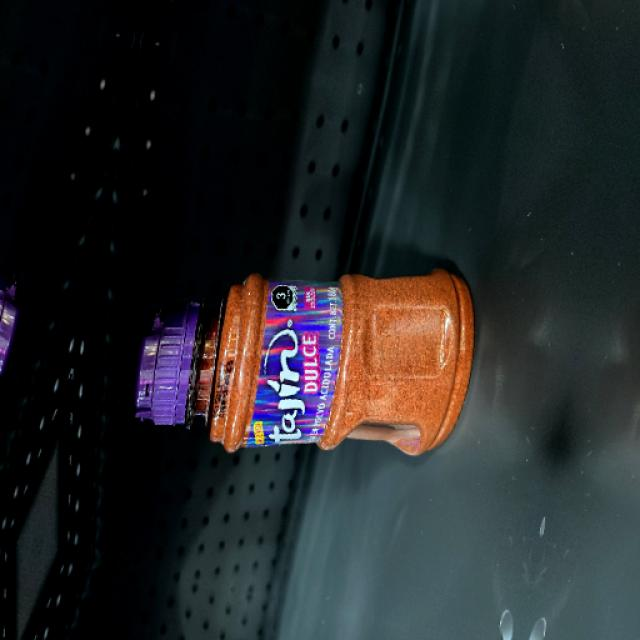tajinDulce: (129, 281, 473, 456)
